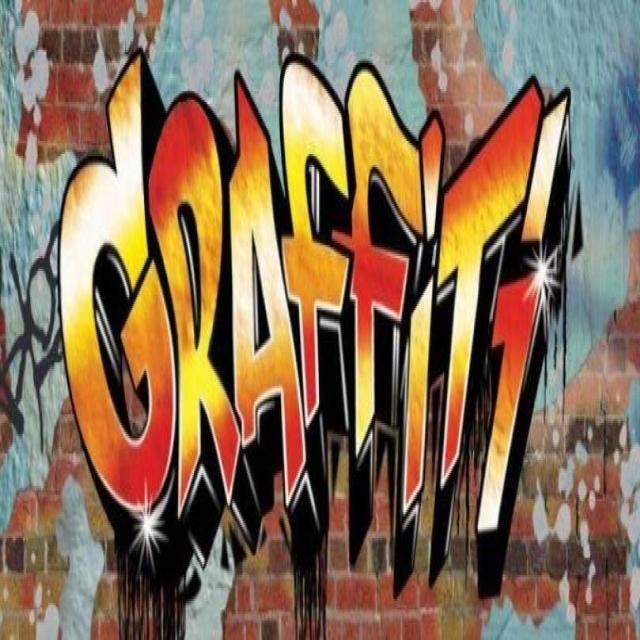-: (57, 46, 583, 548), (2, 219, 68, 438)
